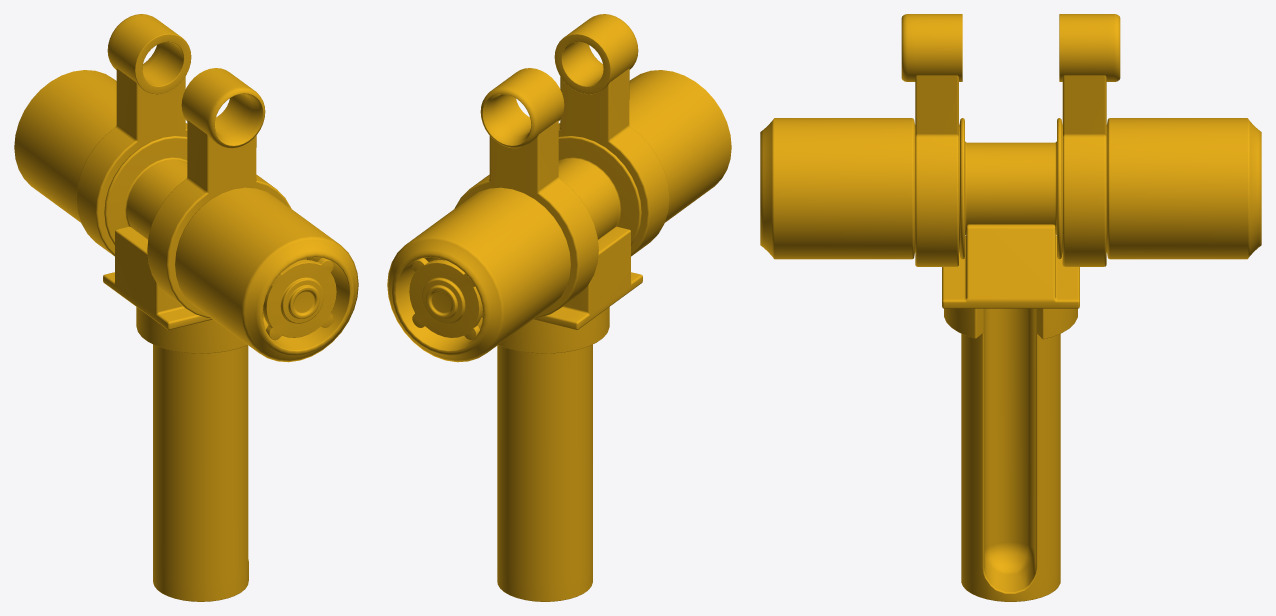
The model's file is SM_Antenna01_part02.fbx.
3 views of the same model, side by side, from view 1: azimuth 30°, elevation 25°; view 2: azimuth 150°, elevation 25°; view 3: azimuth 270°, elevation 25° (orthographic). The views are drawn at different scales.
Visible parts, largest first — view 1: SM_Antenna01_part02; view 2: SM_Antenna01_part02; view 3: SM_Antenna01_part02.
Part boxes in pixels (x1=…): SM_Antenna01_part02: x1=14, y1=14, x2=358, y2=601; SM_Antenna01_part02: x1=387, y1=14, x2=731, y2=601; SM_Antenna01_part02: x1=760, y1=14, x2=1261, y2=601.
Bounding box in the file's own units: 24.44 × 88.23 × 71.62.
